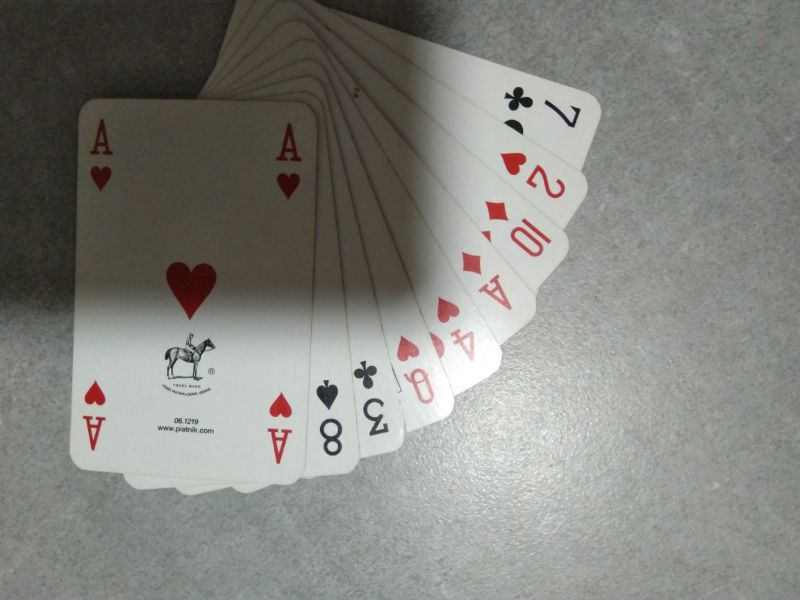2h: (497, 147, 570, 202)
3c: (350, 358, 392, 439)
4h: (429, 292, 481, 363)
7c: (499, 80, 583, 132)
8s: (311, 376, 348, 458)
Ad: (454, 245, 516, 314)
Ah: (271, 117, 307, 202), (261, 388, 298, 470), (78, 376, 112, 456), (87, 116, 119, 197)
Qh: (391, 329, 437, 407)
Td: (482, 192, 556, 262)
